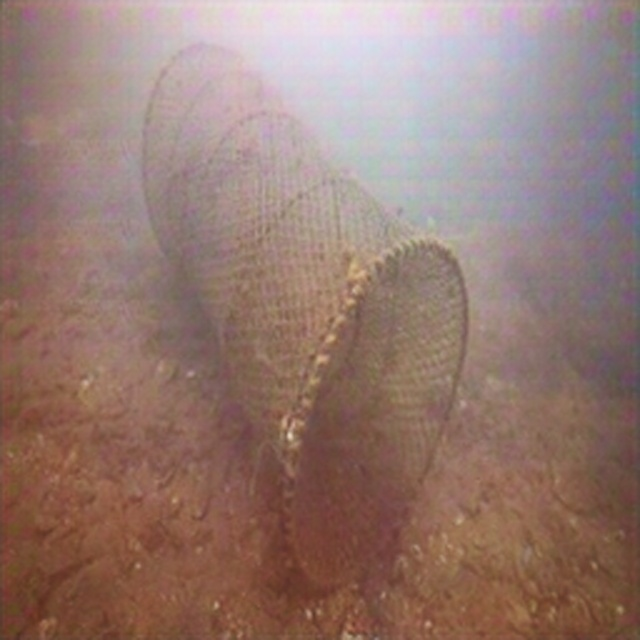mine: (139, 41, 470, 592)
